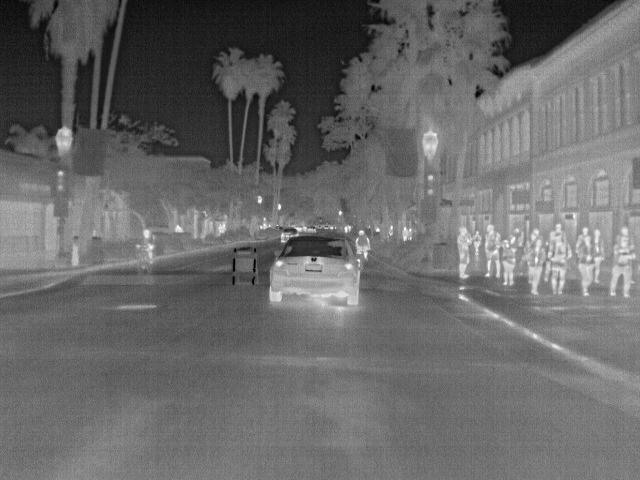car: (268, 235, 363, 309), (278, 226, 297, 244)
person: (546, 232, 575, 295), (607, 235, 634, 298), (575, 226, 595, 296), (589, 227, 609, 284), (482, 223, 501, 280), (525, 238, 544, 294), (454, 226, 474, 278), (500, 235, 519, 283), (137, 228, 158, 262), (353, 228, 374, 259)
